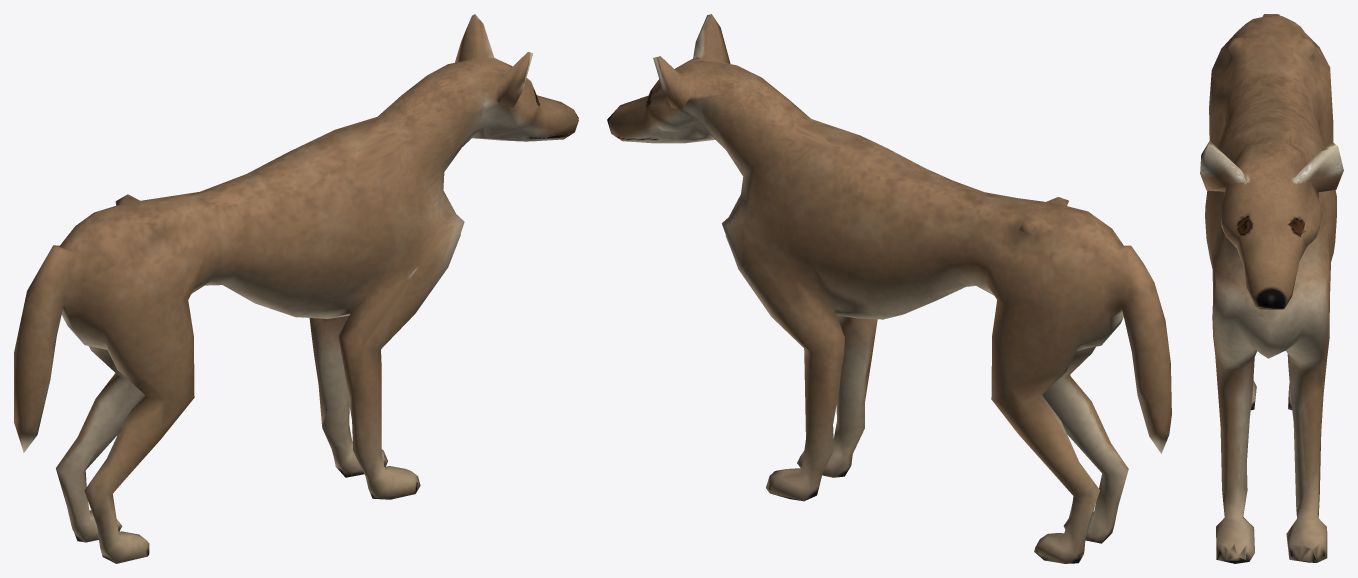
The model's file is stray_alert_lod1.glb.
3 renders of one model, left to right at view 1: azimuth 30°, elevation 25°; view 2: azimuth 150°, elevation 25°; view 3: azimuth 270°, elevation 25°, orthographic. The views are drawn at different scales.
Parts seen in each view (by area): view 1: stray_alert_lod1_mesh; view 2: stray_alert_lod1_mesh; view 3: stray_alert_lod1_mesh.
Boxes of the visible parts, box(x1,y1,x2,y2) form: stray_alert_lod1_mesh: box(14, 14, 578, 563); stray_alert_lod1_mesh: box(607, 14, 1171, 563); stray_alert_lod1_mesh: box(1200, 14, 1343, 563).
Bounding box in the file's own units: 0.918 × 0.6542 × 0.1763.
Materials: 1 (1 with a texture image).
